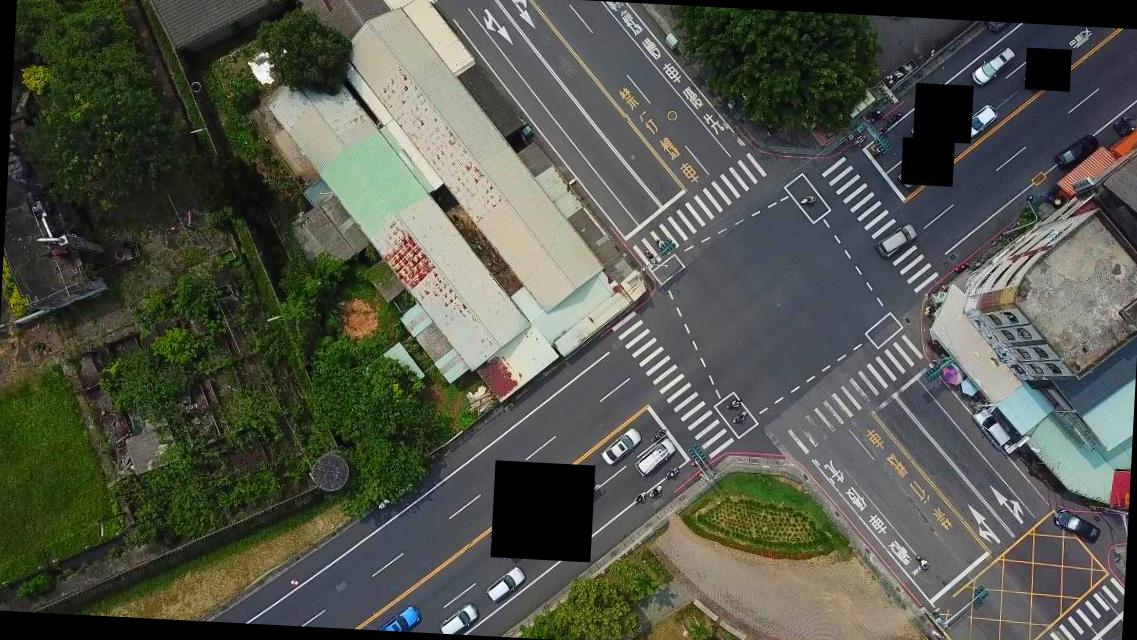vehicle: (972, 45, 1015, 87), (541, 513, 584, 554), (1056, 132, 1100, 172), (971, 406, 1012, 448), (602, 427, 642, 469), (485, 565, 526, 603), (874, 222, 918, 257), (635, 438, 675, 476), (959, 102, 999, 139), (439, 600, 480, 636), (374, 602, 422, 632), (1052, 509, 1098, 540)
